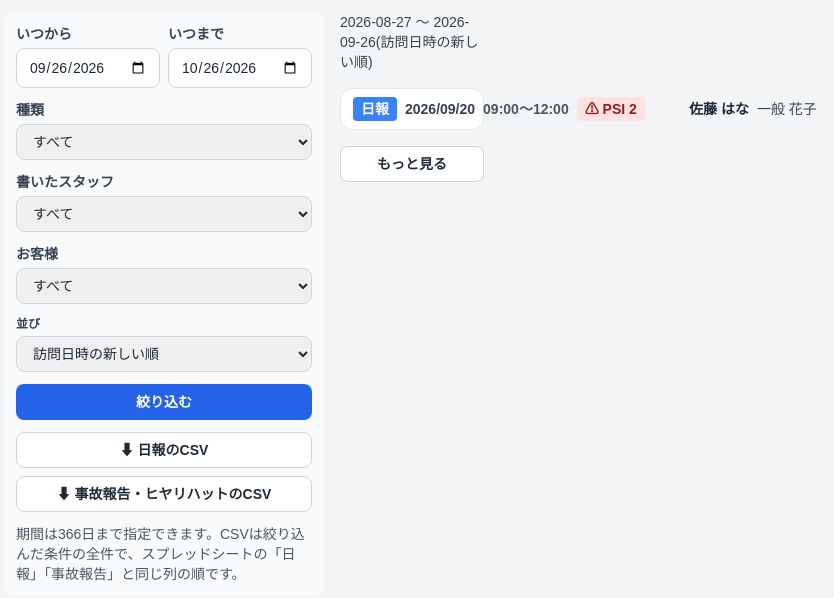
報告一覧 › 全員分を新しい順に出し、「もっと見る」で続きを読む
Expected: the text "佐藤 はな" is shown, 689,101 -> 749,117
Expected: the text "⚠ PSI 2" is shown, 577,97 -> 645,121
Click the button "もっと見る". click: (412,164)
box: 340,146 -> 484,182
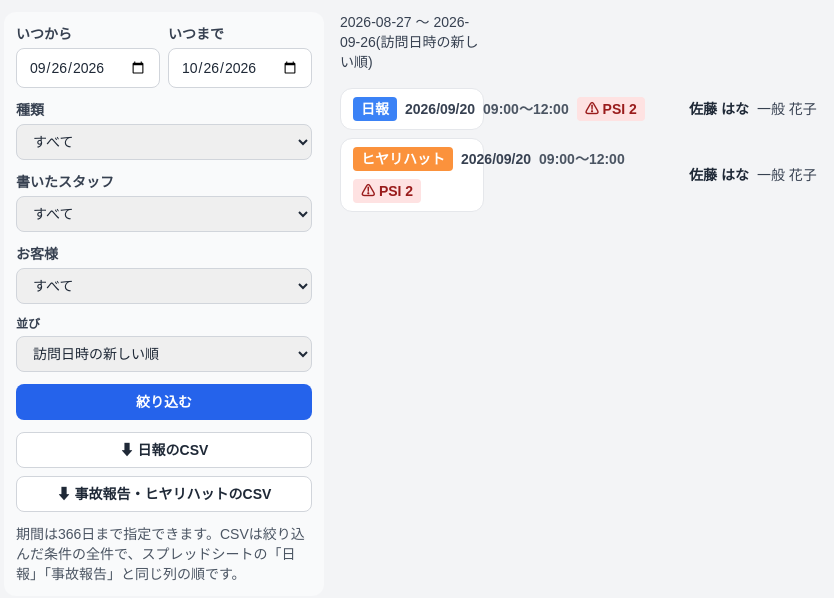
Expected: the text "ヒヤリハット" is shown, 353,147 -> 453,171
Expected: the button "もっと見る" is gone
